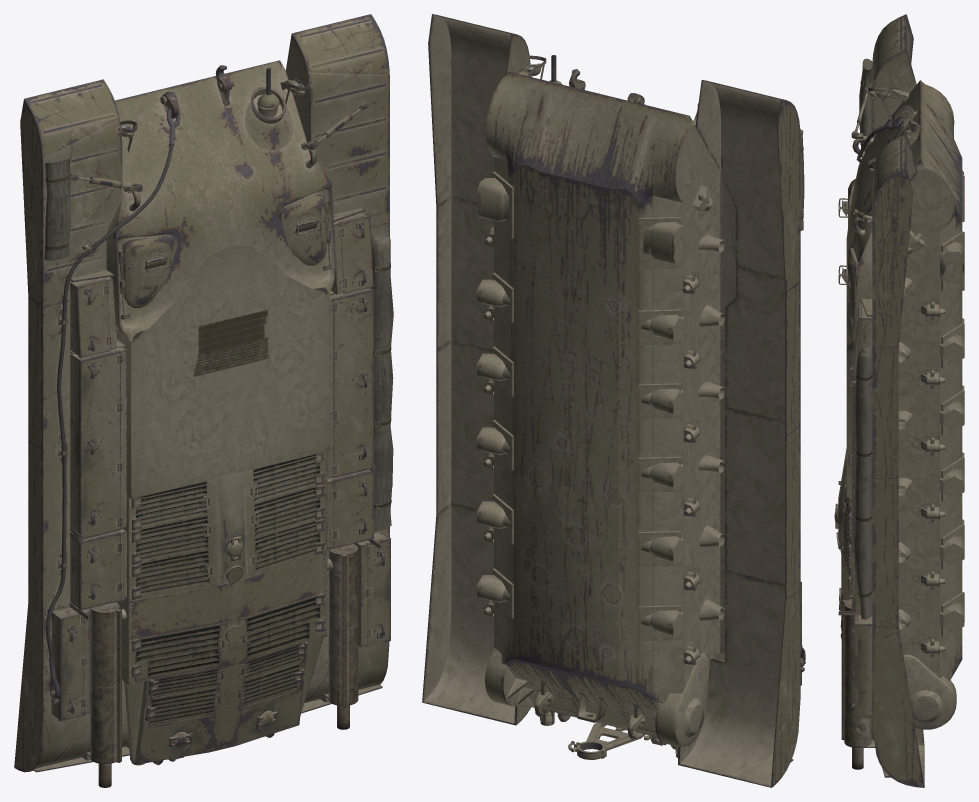
Rendered from Hull.glb.
3 views of the same model, side by side, from view 1: azimuth 30°, elevation 25°; view 2: azimuth 150°, elevation 25°; view 3: azimuth 270°, elevation 25° (orthographic). The views are drawn at different scales.
Parts seen in each view (by area): view 1: set_0_group_0; view 2: set_0_group_0; view 3: set_0_group_0.
Part boxes in pixels (left/top/right/bottom): set_0_group_0: left=14, top=14, right=393, bottom=787; set_0_group_0: left=422, top=14, right=805, bottom=787; set_0_group_0: left=834, top=14, right=964, bottom=787.
Size of the model in its own units: 3.76 by 7.07 by 1.33.
Materials: 1 (1 with a texture image).
